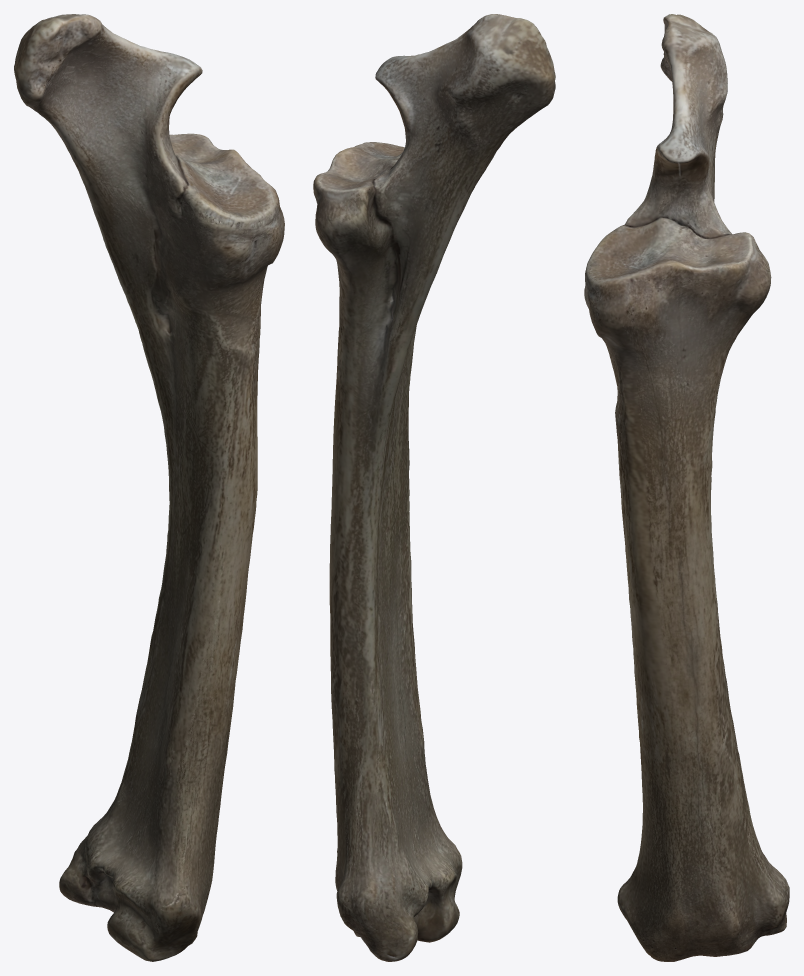
Rendered from rádio-ulna-esquerda-equina.glb.
The picture shows the model from 3 angles, left to right: view 1: azimuth 30°, elevation 25°; view 2: azimuth 150°, elevation 25°; view 3: azimuth 270°, elevation 25°; orthographic projection. The views are drawn at different scales.
Parts seen in each view (by area): view 1: 3DModel_LowPoly; view 2: 3DModel_LowPoly; view 3: 3DModel_LowPoly.
Boxes of the visible parts, x1,y1,x2,y2 form: 3DModel_LowPoly: (14,14,284,961); 3DModel_LowPoly: (313,14,555,961); 3DModel_LowPoly: (584,14,789,961).
Size of the model in its own units: 0.8985 by 3.5 by 0.7287.
1 material, 1 textured.
